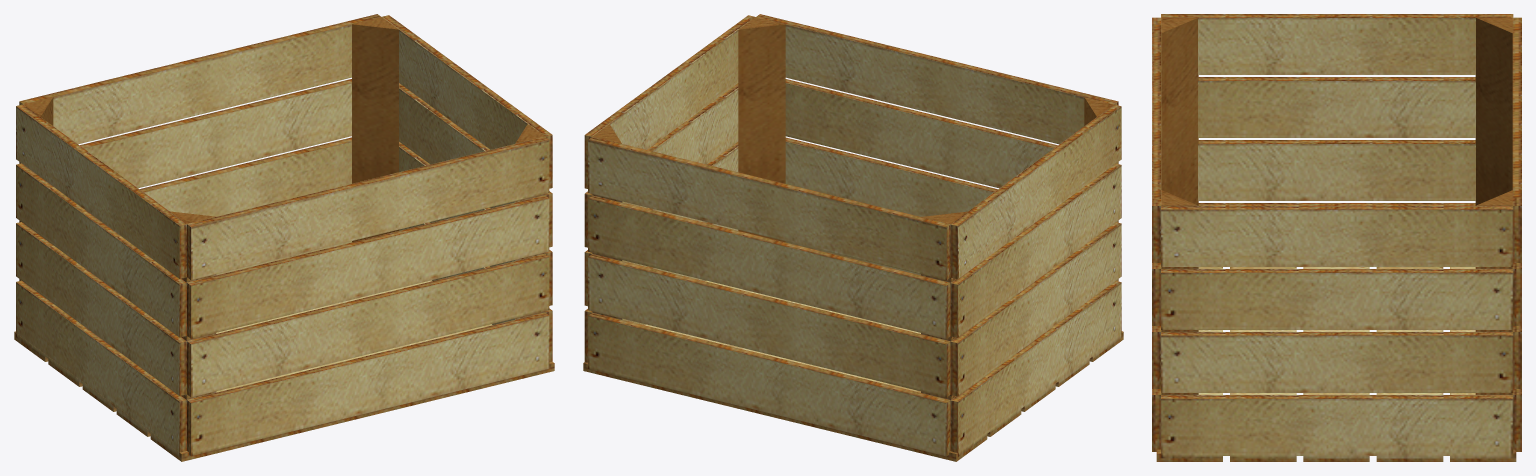
The model's file is woodcrate.obj.
The picture shows the model from 3 angles, left to right: view 1: azimuth 30°, elevation 25°; view 2: azimuth 150°, elevation 25°; view 3: azimuth 270°, elevation 25°; orthographic projection. The views are drawn at different scales.
Parts seen in each view (by area): view 1: woodcrate; view 2: woodcrate; view 3: woodcrate.
Boxes of the visible parts, x1,y1,x2,y2 form: woodcrate: (14,14,554,461); woodcrate: (583,14,1123,461); woodcrate: (1152,14,1521,461).
Bounding box in the file's own units: 3.94 × 2.37 × 3.14.
1 material, 1 textured.
